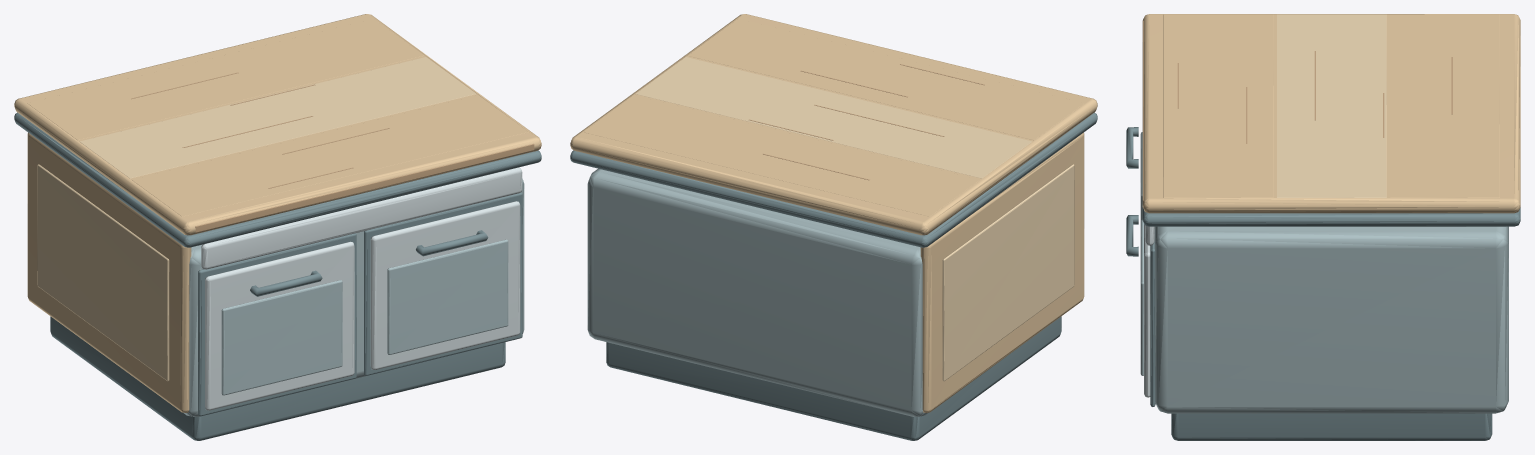
The model's file is CounterEnd.fbx.
3 views of the same model, side by side, from view 1: azimuth 30°, elevation 25°; view 2: azimuth 150°, elevation 25°; view 3: azimuth 270°, elevation 25° (orthographic). The views are drawn at different scales.
Visible parts, largest first — view 1: CounterEnd; view 2: CounterEnd; view 3: CounterEnd.
Boxes of the visible parts, x1,y1,x2,y2 form: CounterEnd: [14, 14, 541, 440]; CounterEnd: [570, 14, 1097, 440]; CounterEnd: [1126, 14, 1520, 440].
Bounding box in the file's own units: 1.9 × 1.19 × 1.67.
